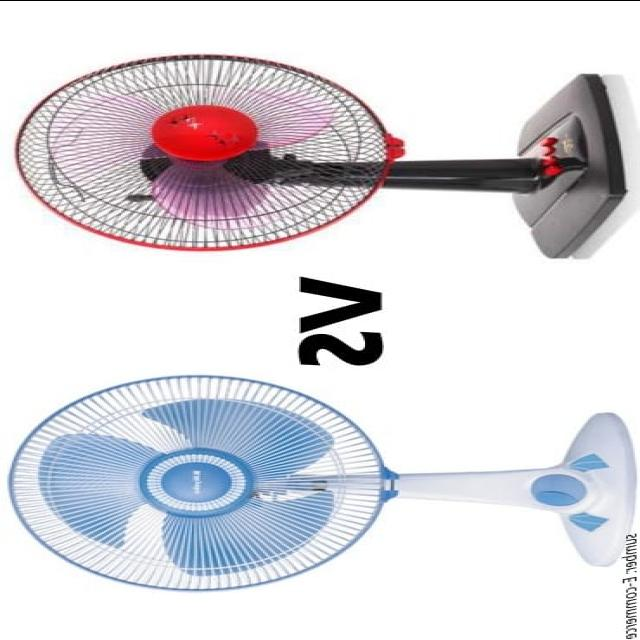fan: (12, 49, 622, 594)
